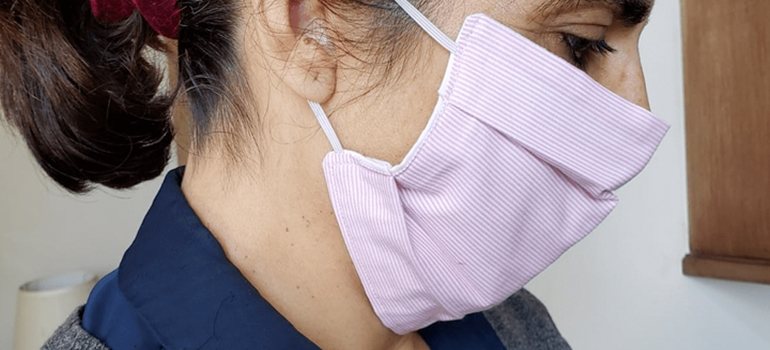barbijo: (308, 4, 674, 337)
